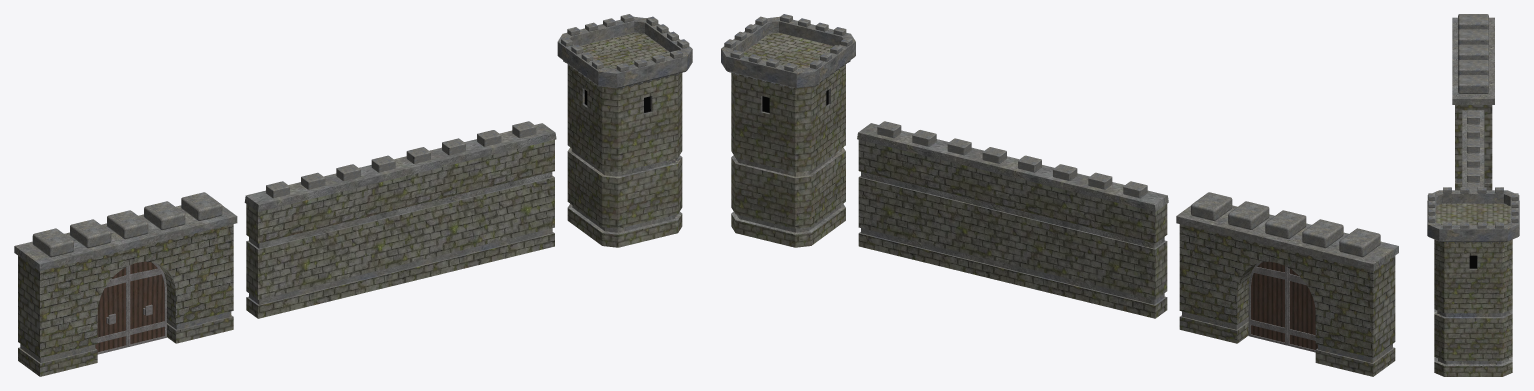
The model's file is walls.glb.
3 renders of one model, left to right at view 1: azimuth 30°, elevation 25°; view 2: azimuth 150°, elevation 25°; view 3: azimuth 270°, elevation 25°, orthographic. The views are drawn at different scales.
Visible parts, largest first — view 1: Wall_Wall_0, Tower_Tower_0, Wall001_Wall01_0, Door_L_Door_0, Door_R_Door_0; view 2: Wall_Wall_0, Tower_Tower_0, Wall001_Wall01_0, Door_L_Door_0, Door_R_Door_0; view 3: Tower_Tower_0, Wall001_Wall01_0, Wall_Wall_0.
Boxes of the visible parts, <box> form: Wall_Wall_0: <box>244,121,556,318</box>; Tower_Tower_0: <box>557,14,692,247</box>; Wall001_Wall01_0: <box>14,192,237,376</box>; Door_L_Door_0: <box>128,261,166,346</box>; Door_R_Door_0: <box>95,266,128,354</box>; Wall_Wall_0: <box>857,121,1168,318</box>; Tower_Tower_0: <box>721,14,855,247</box>; Wall001_Wall01_0: <box>1176,192,1398,376</box>; Door_L_Door_0: <box>1248,261,1287,345</box>; Door_R_Door_0: <box>1287,267,1317,352</box>; Tower_Tower_0: <box>1427,187,1519,376</box>; Wall001_Wall01_0: <box>1452,14,1494,190</box>; Wall_Wall_0: <box>1462,110,1484,190</box>.
Bounding box in the file's own units: 25.88 × 7.01 × 3.79.
4 materials, 4 textured.
